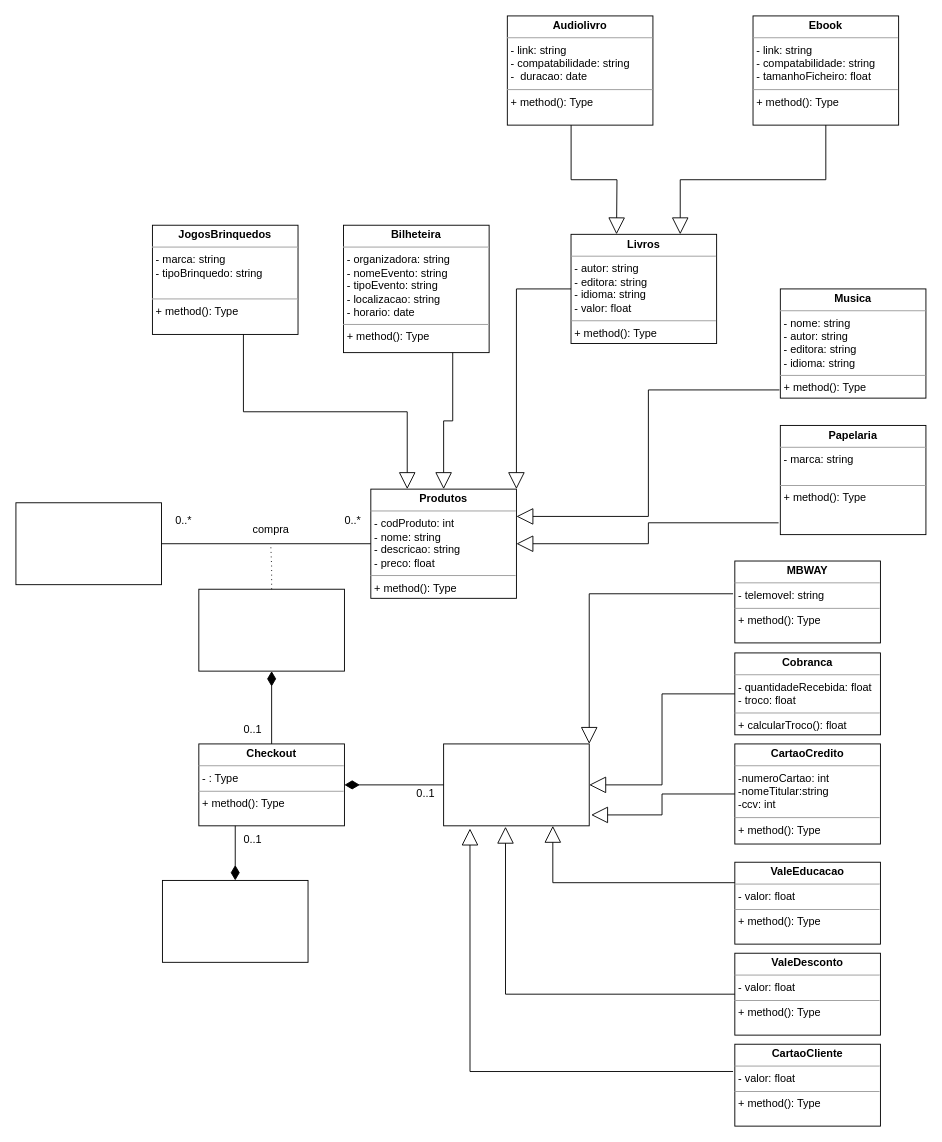
Some shapes in this 942 by 1142 pixel diagram are drawn without their labels. The shapes that lost their labels are listed below. From the top down, each one's centre as x and y in pixels, then its label:
the point at 88,543: Utilizador - Nome: String - DataNascimento: Date + method(): Type
the point at 271,629: Carrinho - quantidade: int + adicionarProdutos(): int
the point at 516,784: Pagamento - valorTotal: float + method(): Type
the point at 235,921: Log in + field: Type + method(): Type
